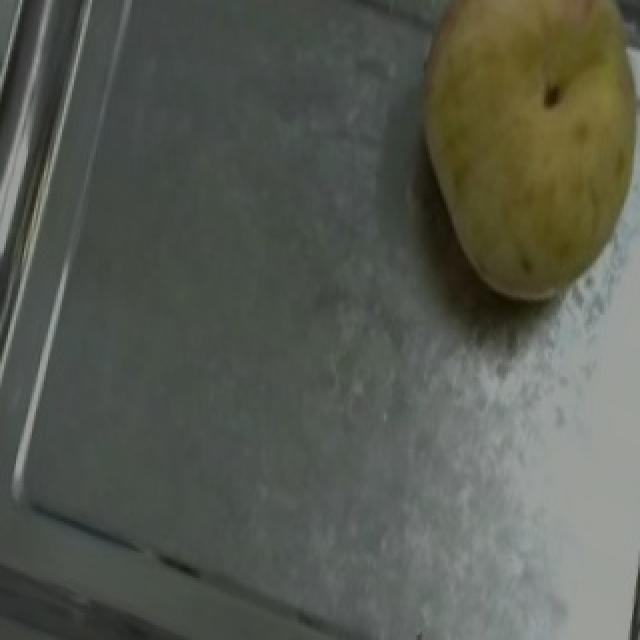Fruit: (372, 0, 640, 340)
